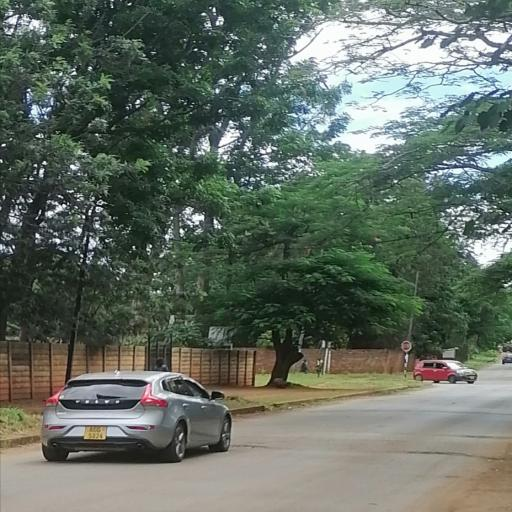number-plates: (82, 425, 110, 441)
